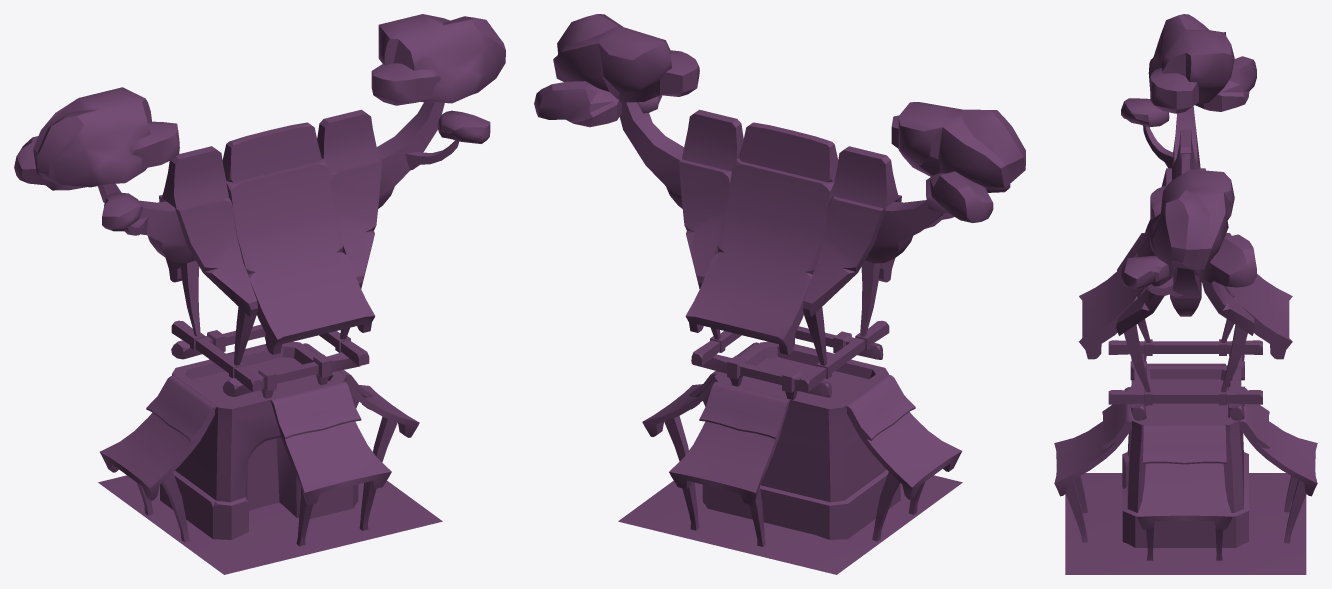
The model's file is BUD_Building_C.FBX.
The picture shows the model from 3 angles, left to right: view 1: azimuth 30°, elevation 25°; view 2: azimuth 150°, elevation 25°; view 3: azimuth 270°, elevation 25°; orthographic projection. The views are drawn at different scales.
Visible parts, largest first — view 1: BUD_Building_C_01, BUD_Building_C_02; view 2: BUD_Building_C_01, BUD_Building_C_02; view 3: BUD_Building_C_01, BUD_Building_C_02.
Boxes of the visible parts, x1,y1,x2,y2 form: BUD_Building_C_01: [98, 109, 442, 574]; BUD_Building_C_02: [14, 14, 505, 263]; BUD_Building_C_01: [618, 109, 962, 574]; BUD_Building_C_02: [534, 14, 1025, 263]; BUD_Building_C_01: [1054, 130, 1317, 574]; BUD_Building_C_02: [1121, 14, 1256, 316].
Bounding box in the file's own units: 38.43 × 34.5 × 19.65.
